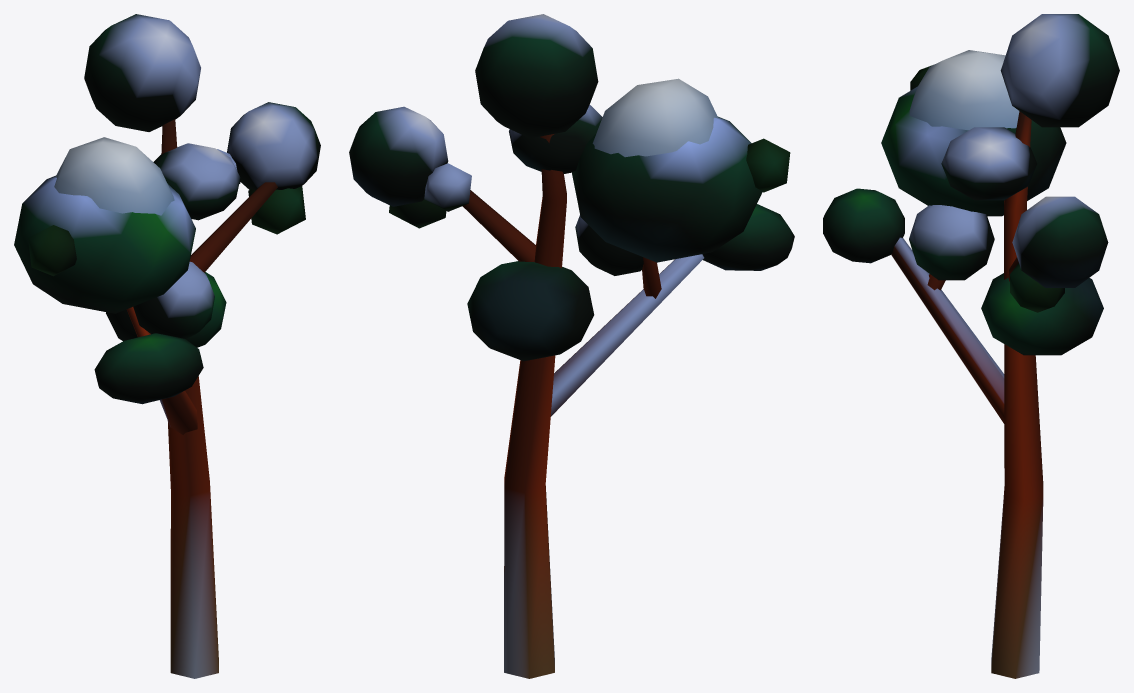
Rendered from Pine_01.fbx.
3 views of the same model, side by side, from view 1: azimuth 30°, elevation 25°; view 2: azimuth 150°, elevation 25°; view 3: azimuth 270°, elevation 25° (orthographic). The views are drawn at different scales.
Parts seen in each view (by area): view 1: Pine_01; view 2: Pine_01; view 3: Pine_01.
Boxes of the visible parts, left/top/right/bottom form: Pine_01: left=14, top=14, right=320, bottom=678; Pine_01: left=349, top=14, right=794, bottom=678; Pine_01: left=823, top=14, right=1119, bottom=678.
Bounding box in the file's own units: 2023 × 3576 × 1512.
